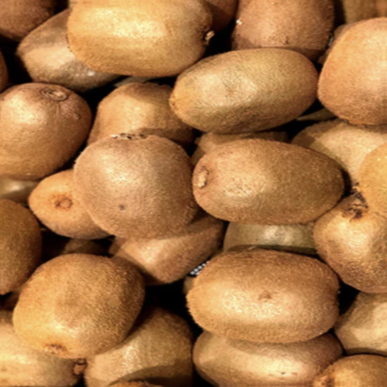kiwi: (67, 109, 204, 244), (181, 241, 352, 348), (8, 247, 157, 369), (161, 30, 314, 148), (184, 133, 354, 229), (59, 0, 208, 88)
